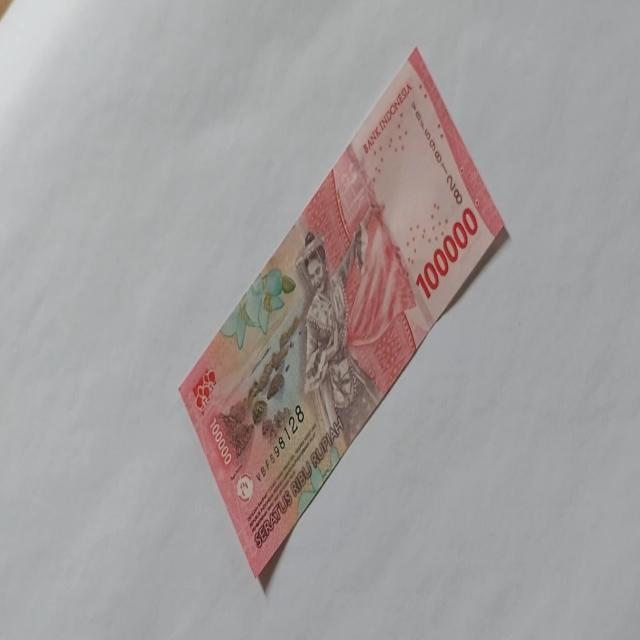seratus ribu rupiah: (177, 46, 507, 580), (294, 220, 371, 443)
